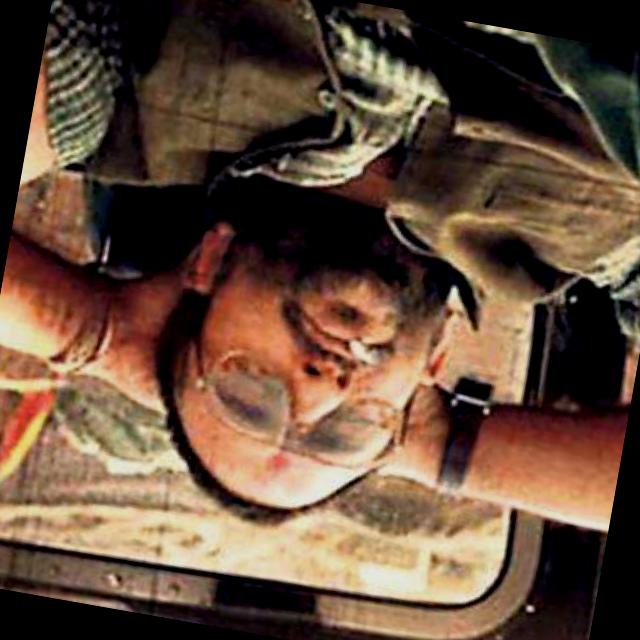smoke: (344, 330, 384, 372)
